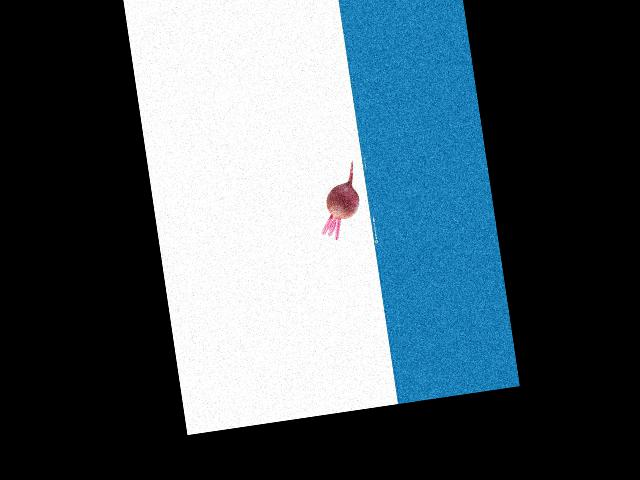beet: (312, 161, 364, 241)
